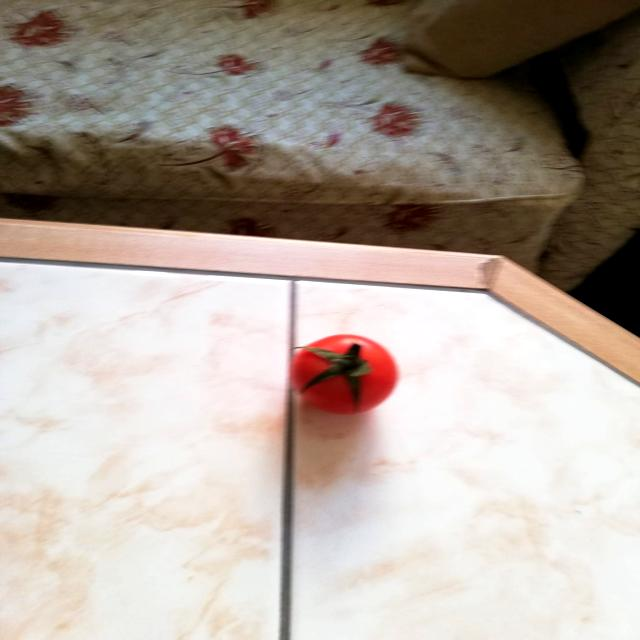tomato: (288, 331, 402, 416)
